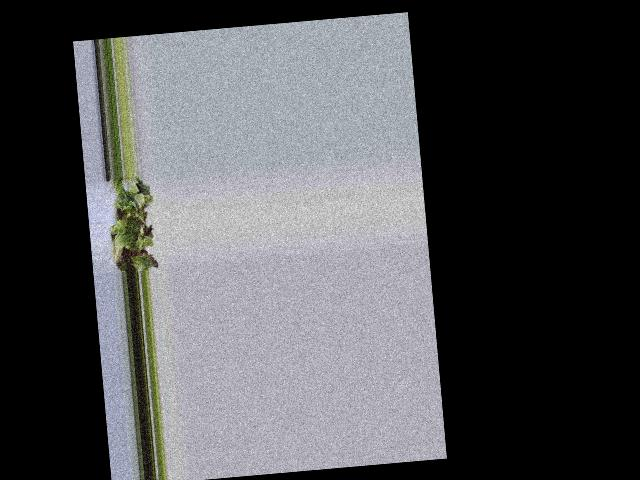lettuce: (112, 180, 154, 269)
